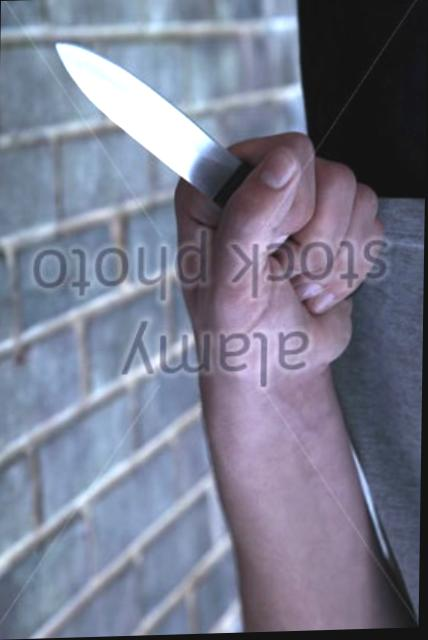pocket-knife: (46, 32, 372, 326)
